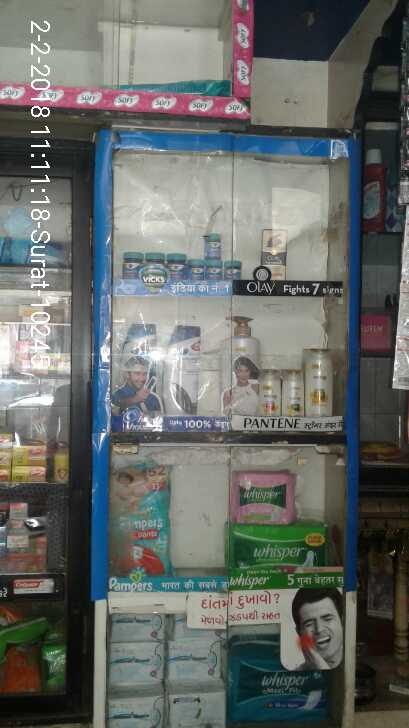beauty: (163, 325, 200, 431), (118, 325, 156, 408), (259, 231, 285, 276)
pharmacy: (108, 466, 179, 576), (119, 230, 244, 281), (229, 527, 330, 579), (231, 471, 300, 521)
